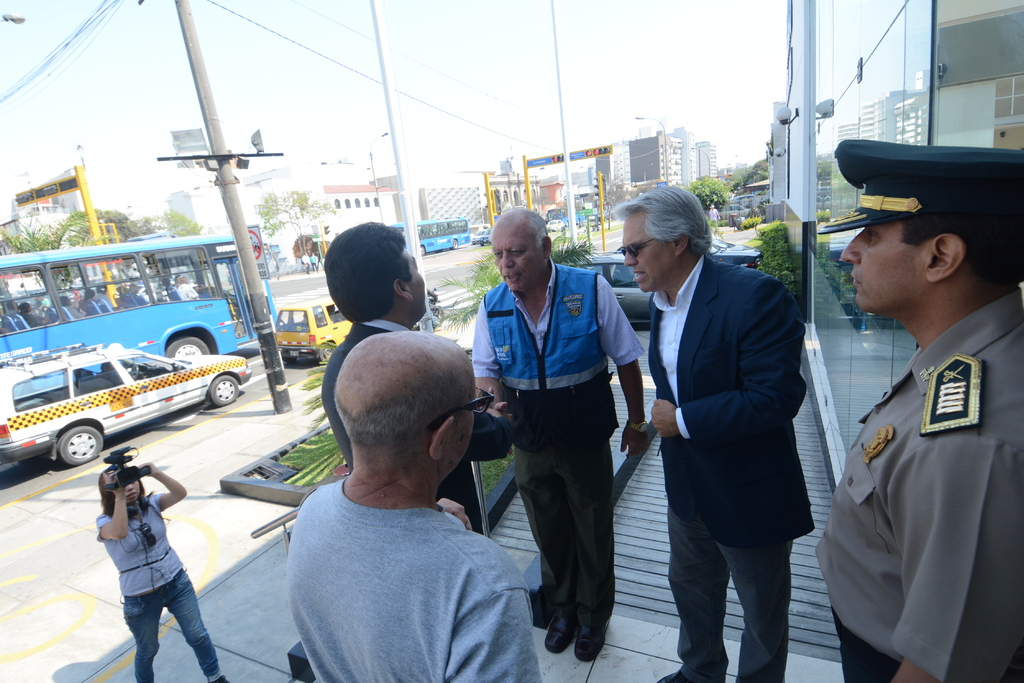Car: (0, 343, 250, 460), (276, 299, 359, 366)
